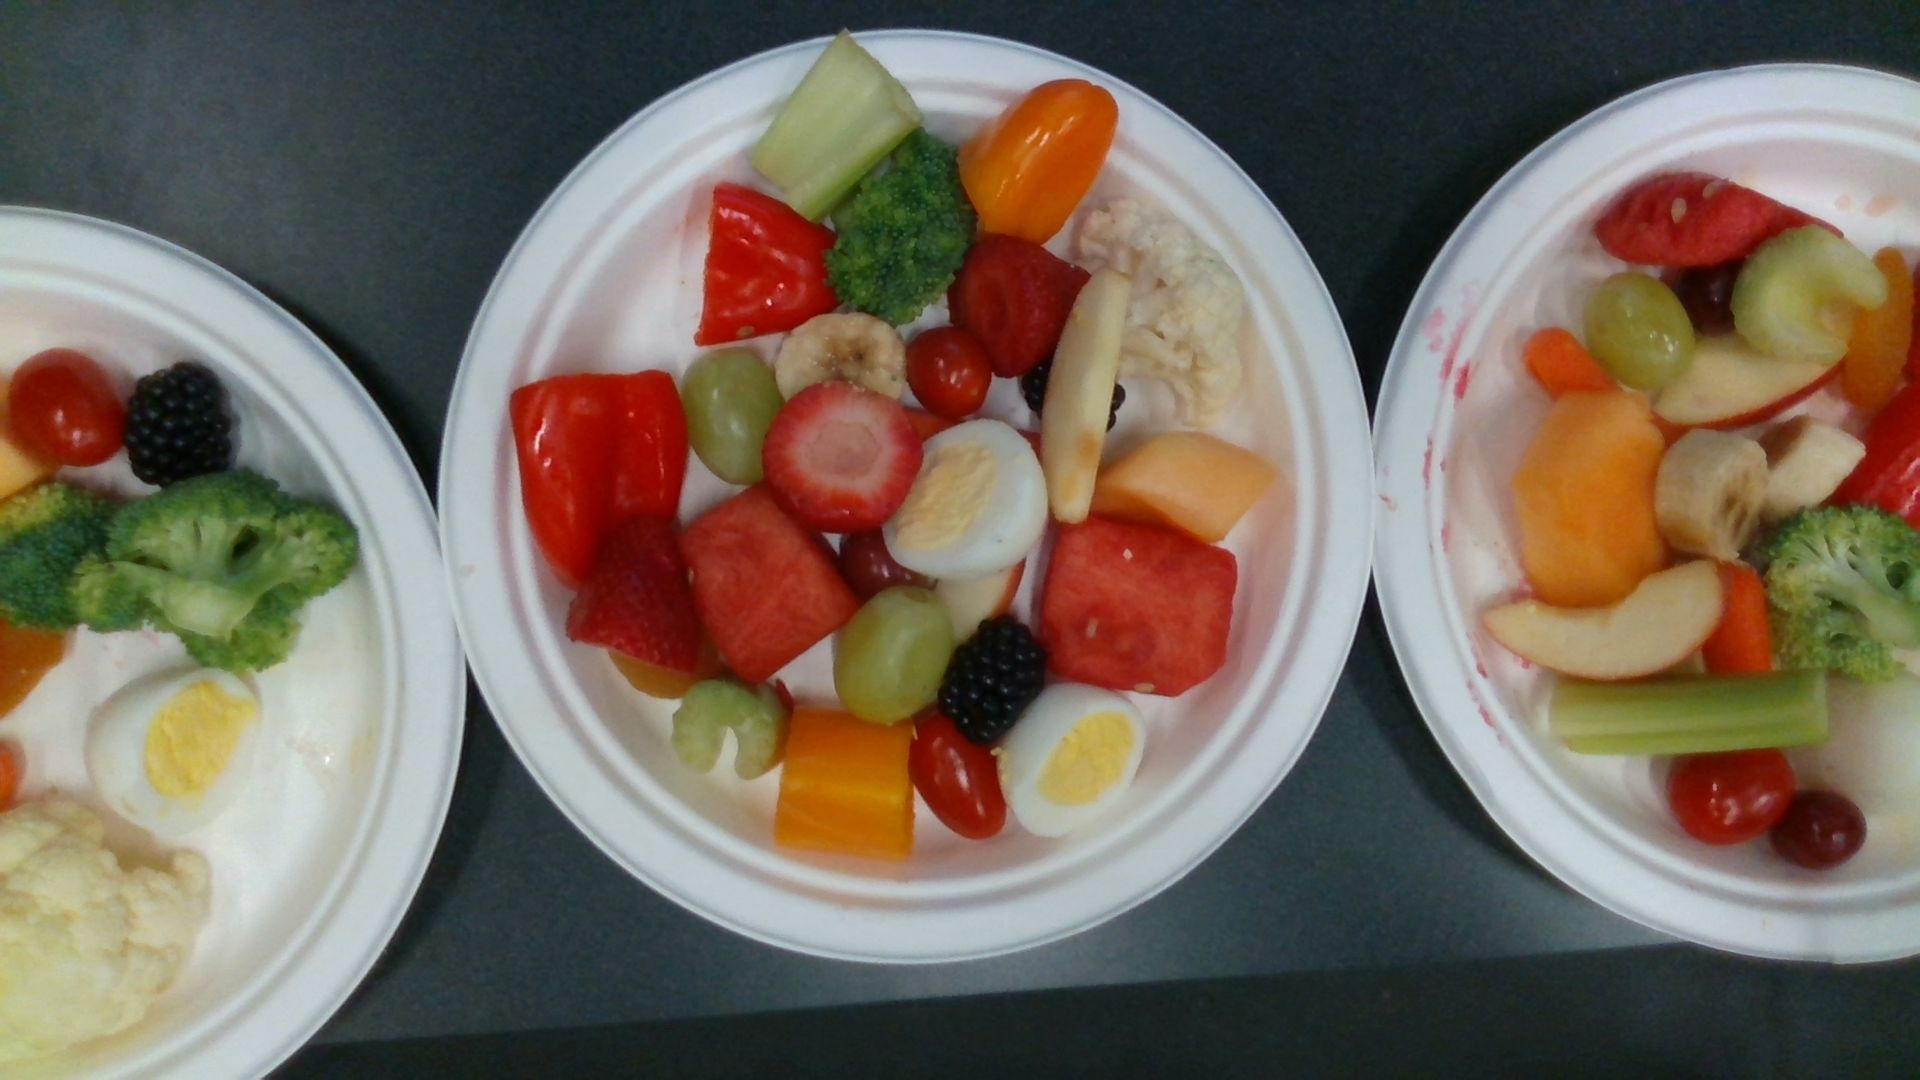apple: (1480, 560, 1722, 678), (1039, 270, 1134, 525), (1648, 335, 1845, 425)
banana: (1654, 431, 1768, 560), (777, 313, 905, 405)
bell_pepper: (509, 375, 680, 588), (965, 83, 1117, 241), (698, 183, 835, 345), (775, 711, 915, 860)
blackberry: (124, 365, 233, 491), (944, 620, 1044, 740)
broccoli: (70, 475, 353, 659), (1764, 502, 1920, 678), (832, 136, 975, 326), (1, 483, 129, 628)
cantalope: (1522, 392, 1658, 601), (1095, 436, 1274, 541)
carrot: (1524, 328, 1619, 401), (1702, 566, 1764, 676)
cauliflower: (1, 798, 210, 1073), (1079, 198, 1244, 421)
celery: (745, 32, 922, 218), (1549, 676, 1825, 752), (1734, 229, 1884, 355), (667, 680, 785, 775)
cherry_tomato: (15, 348, 124, 462), (1667, 750, 1797, 843), (909, 721, 1007, 840), (909, 330, 992, 418)
egg: (87, 663, 260, 835), (887, 423, 1040, 578), (1000, 684, 1142, 833)
grape_green: (833, 585, 953, 727), (684, 353, 779, 483), (1586, 276, 1691, 392)
grape_purple: (1775, 793, 1865, 870)
melon: (676, 487, 855, 680), (1042, 518, 1234, 694), (1596, 175, 1840, 265)
strawberry: (765, 380, 922, 535), (949, 237, 1089, 373), (567, 524, 692, 671)
